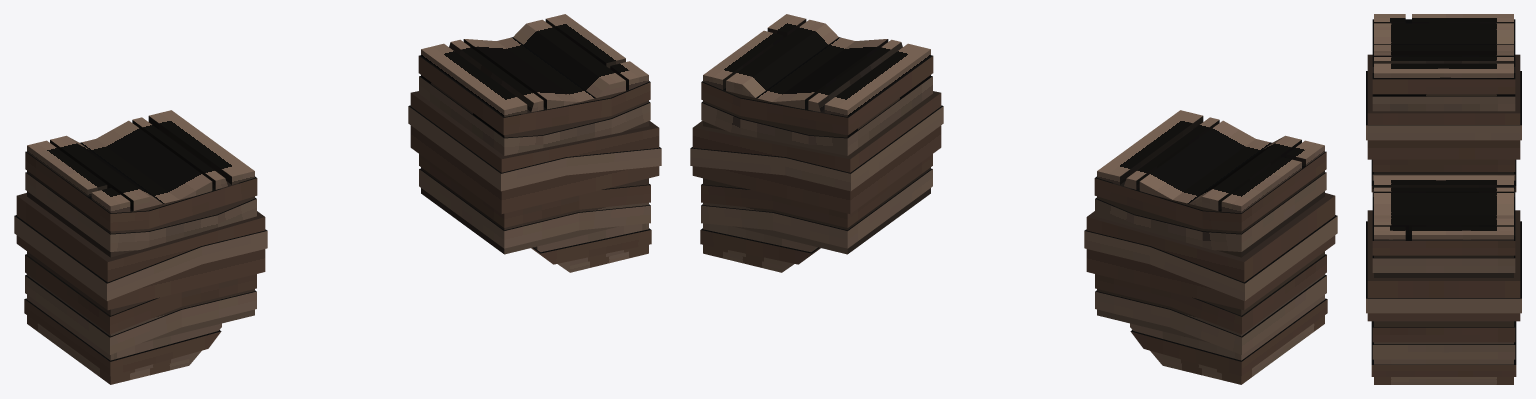
3 renders of one model, left to right at view 1: azimuth 30°, elevation 25°; view 2: azimuth 150°, elevation 25°; view 3: azimuth 270°, elevation 25°, orthographic. The views are drawn at different scales.
Parts seen in each view (by area): view 1: left_arm, right_arm; view 2: left_arm, right_arm; view 3: right_arm, left_arm.
Boxes of the visible parts, x1,y1,x2,y2 form: left_arm: [14, 110, 267, 384]; right_arm: [408, 14, 661, 272]; left_arm: [1084, 110, 1337, 384]; right_arm: [690, 14, 943, 272]; right_arm: [1366, 175, 1521, 384]; left_arm: [1366, 14, 1521, 192].
Size of the model in its own units: 1.06 by 0.325 by 0.306.
1 material, 1 textured.
